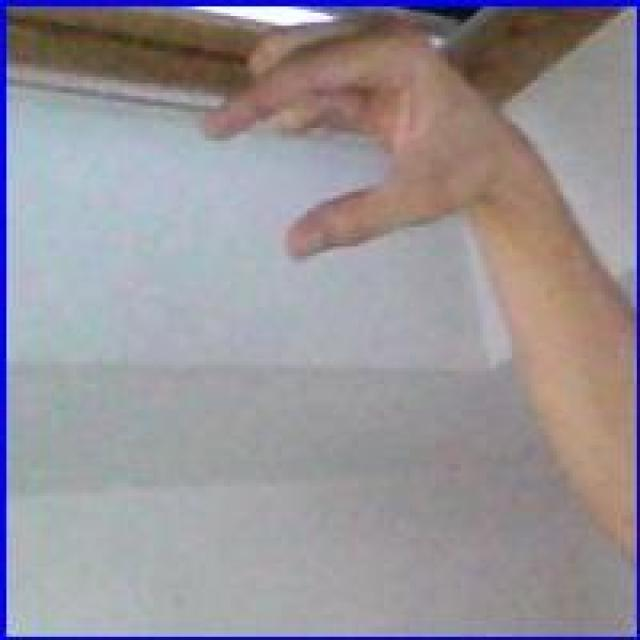Q: (194, 8, 507, 264)
